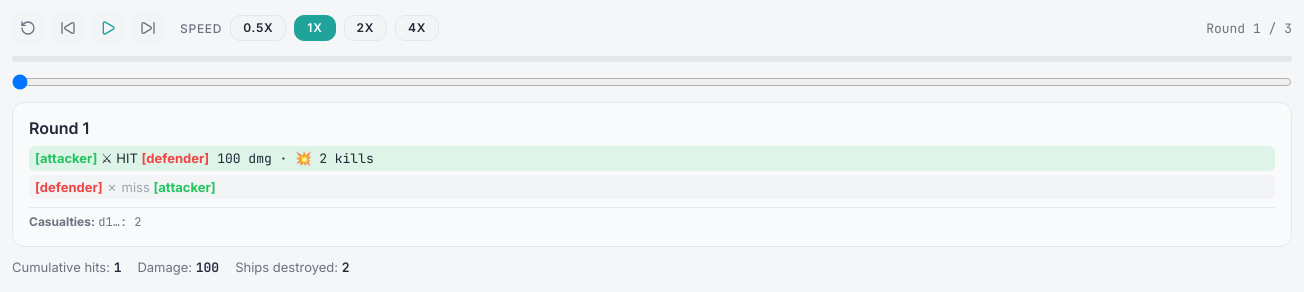
Test: BattlePlayback › faster speed advances rounds in fewer ticks
Click the button "4x" at (417, 28), box [395,15,439,41]
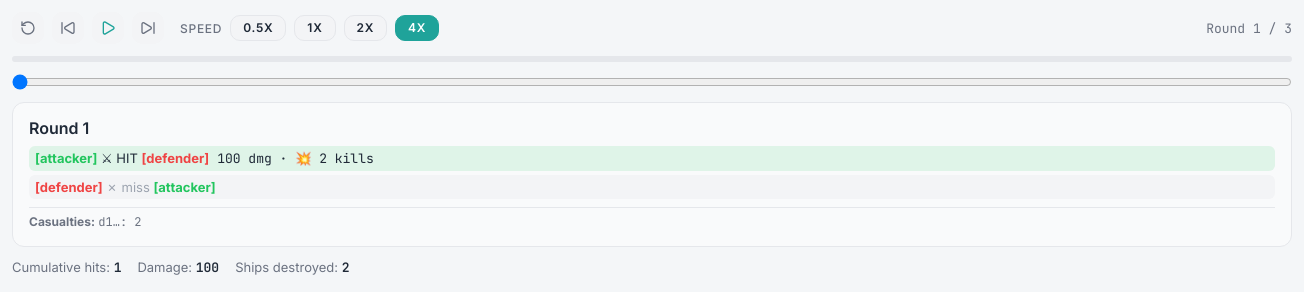
Click the button named "play" at (108, 28), box [92,12,124,44]
Wait 250 ms
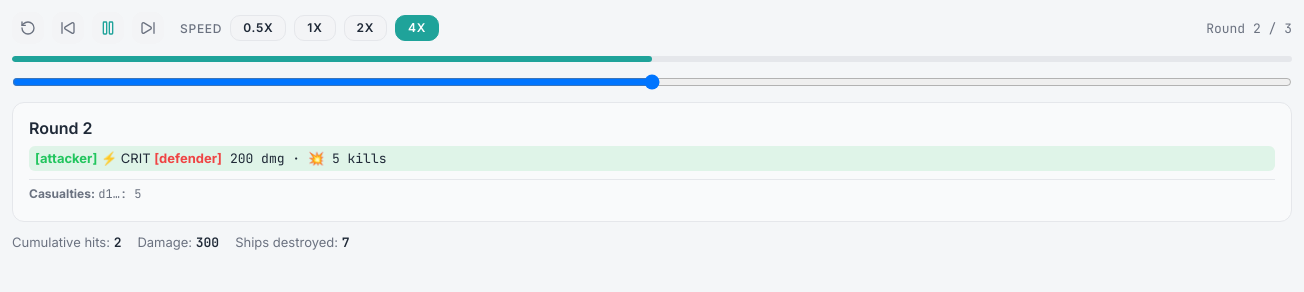
Result: the text "Round 2 / 3" is shown at [1206,20,1292,36]
